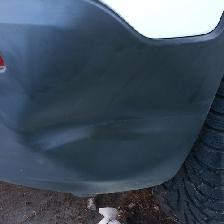dent: (0, 16, 209, 195)
